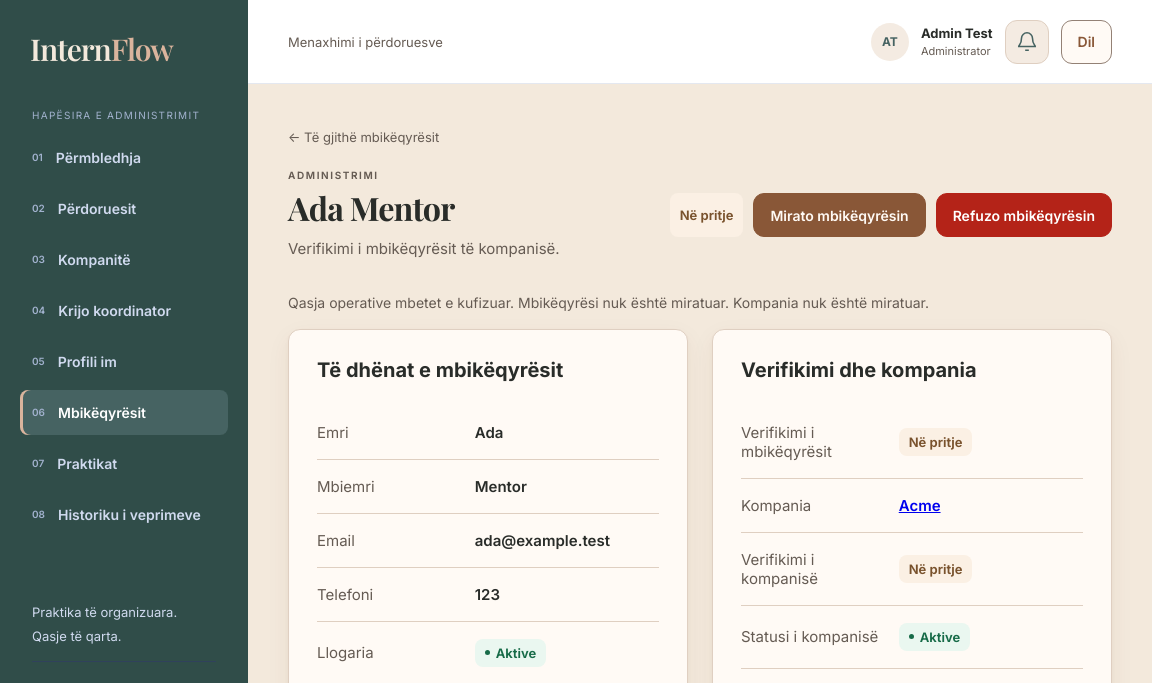
Admin supervisors › reloads after conflict and hides reviewed actions
Click the button "Mirato mbikëqyrësin" at (840, 215), box x1=753 y1=193 x2=926 y2=237
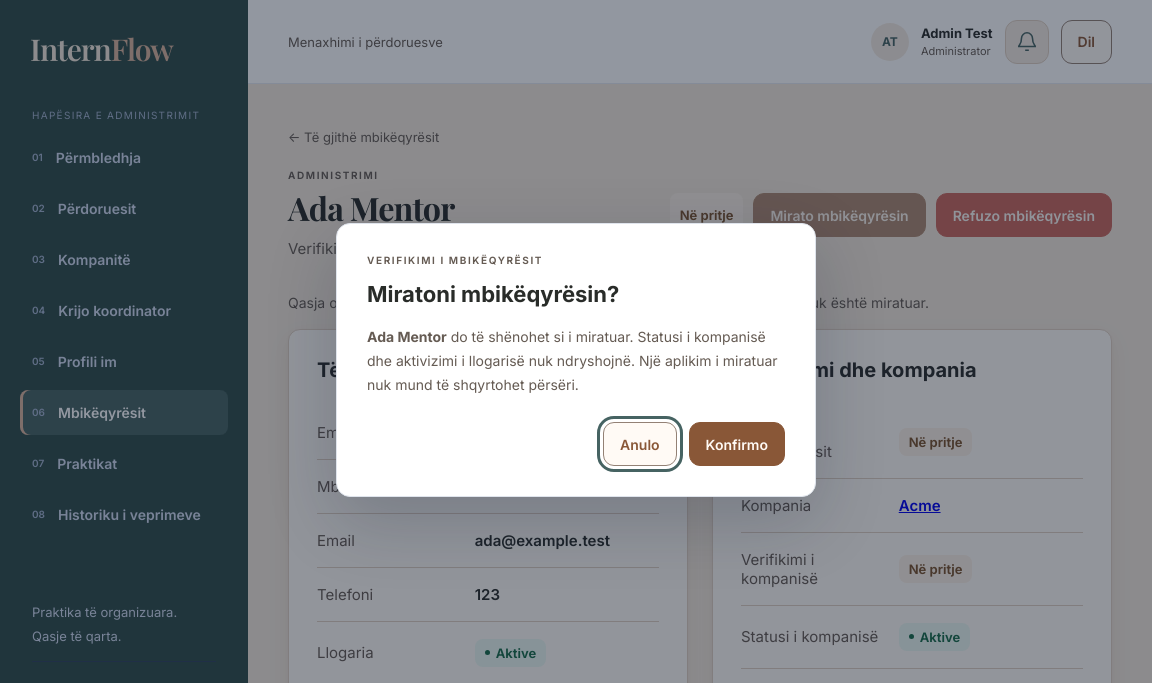
Click the button "Konfirmo" at (737, 444), box x1=689 y1=422 x2=785 y2=466
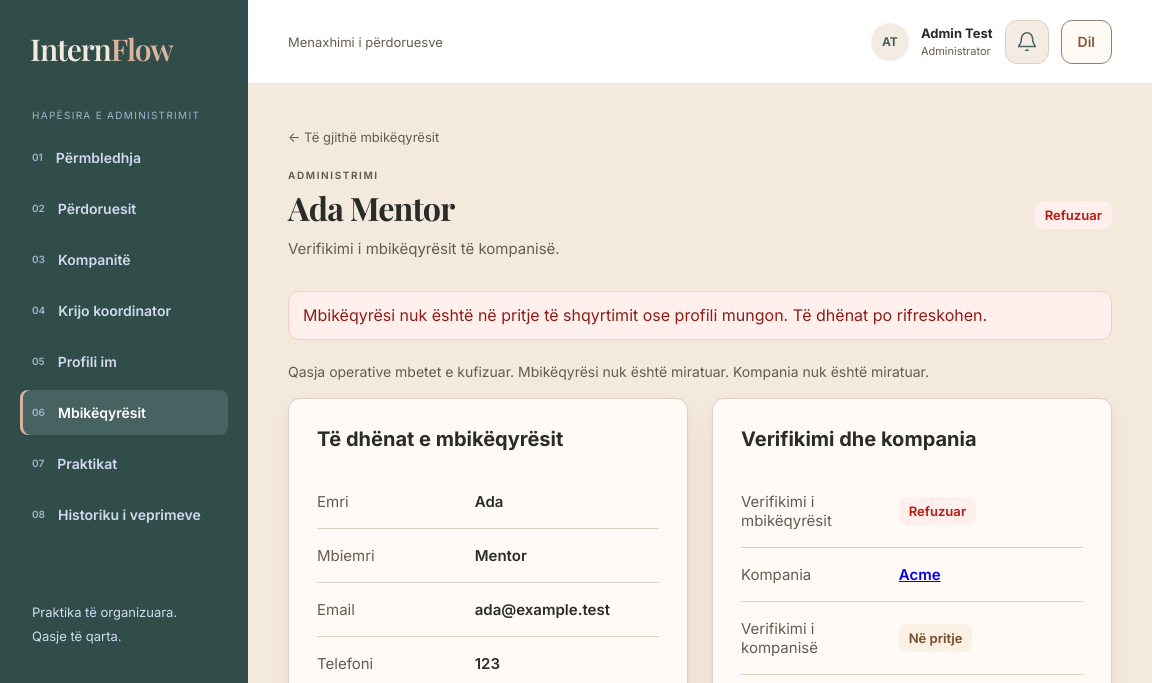
Expected: the text "Refuzuar" is shown 2 times, x1=1035 y1=201 x2=1112 y2=229; x1=899 y1=497 x2=976 y2=525
Expected: the message shows "Mbikëqyrësi nuk është në pritje të shqyrtimit", x1=303 y1=305 x2=987 y2=325
Expected: the button "Mirato mbikëqyrësin" is gone
